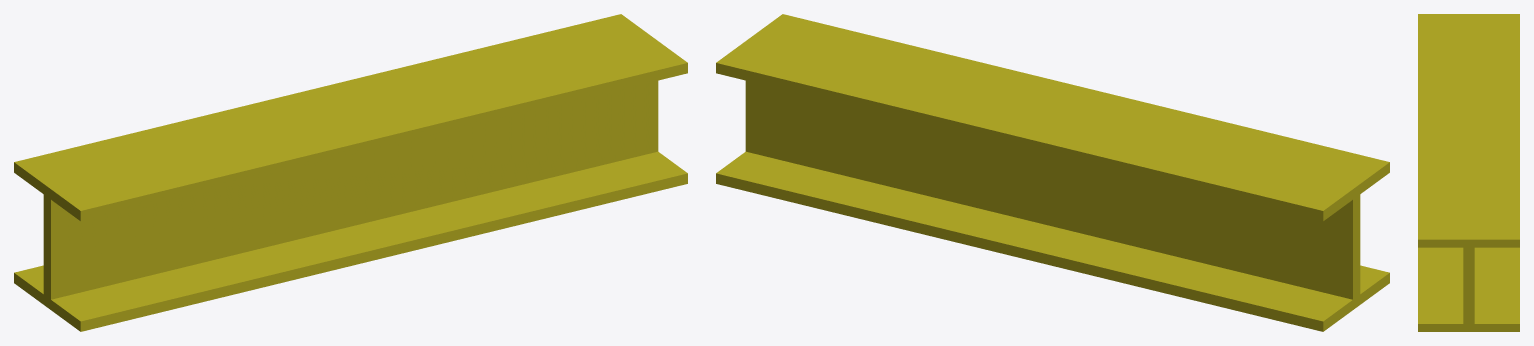
File: mesh_Girder2_v2.fbx
The picture shows the model from 3 angles, left to right: view 1: azimuth 30°, elevation 25°; view 2: azimuth 150°, elevation 25°; view 3: azimuth 270°, elevation 25°; orthographic projection. The views are drawn at different scales.
Parts seen in each view (by area): view 1: mesh_Girder2_v2_0; view 2: mesh_Girder2_v2_0; view 3: mesh_Girder2_v2_0.
Part boxes in pixels (box(x1,y1,x2,y2)): mesh_Girder2_v2_0: box(14, 14, 687, 331); mesh_Girder2_v2_0: box(716, 14, 1389, 331); mesh_Girder2_v2_0: box(1418, 14, 1519, 331).
Bounding box in the file's own units: 223 × 42.44 × 42.44.
